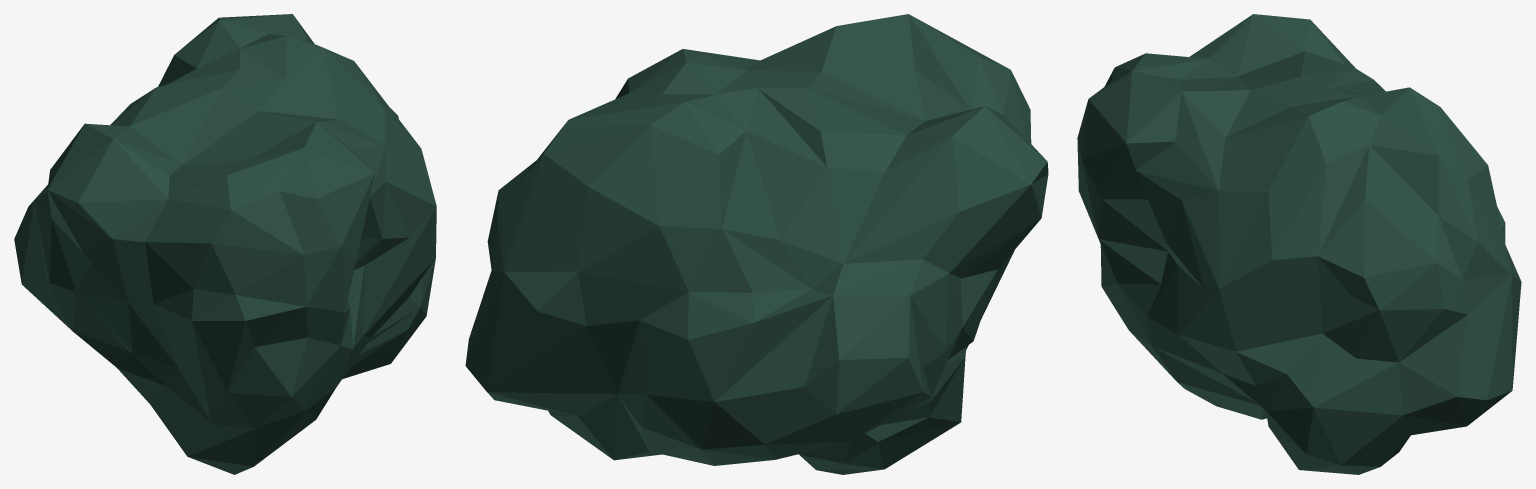
The model's file is SM_large_rock_26.fbx.
3 renders of one model, left to right at view 1: azimuth 30°, elevation 25°; view 2: azimuth 150°, elevation 25°; view 3: azimuth 270°, elevation 25°, orthographic. The views are drawn at different scales.
Parts seen in each view (by area): view 1: large_rock_26; view 2: large_rock_26; view 3: large_rock_26.
Boxes of the visible parts, <box> form: large_rock_26: <box>14,14,436,474</box>; large_rock_26: <box>465,14,1048,474</box>; large_rock_26: <box>1077,14,1521,474</box>.
Size of the model in its own units: 61.65 by 53.47 by 59.
